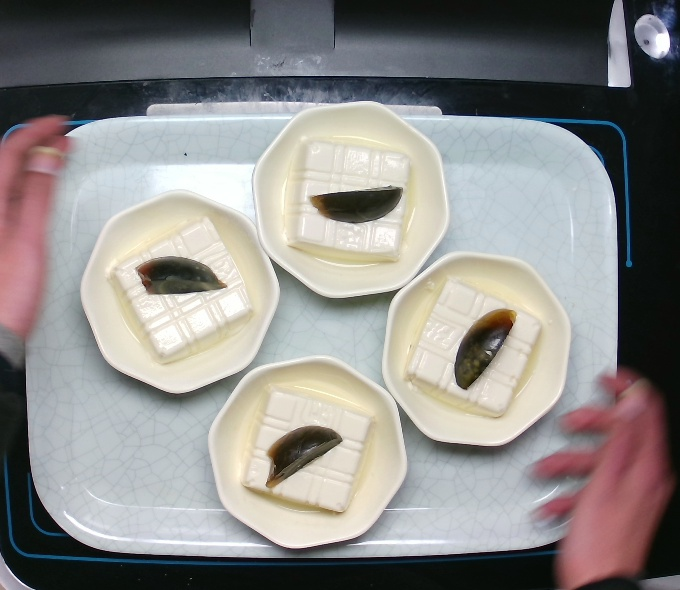wcq-PiDanDouFu: (106, 202, 256, 362), (399, 275, 547, 419), (279, 130, 418, 274), (237, 375, 376, 517)
